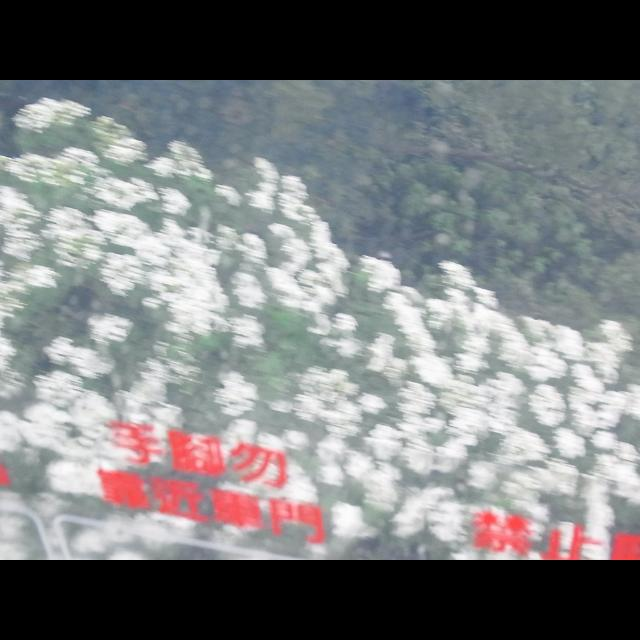Flower: (1, 95, 640, 559), (332, 311, 358, 333)
